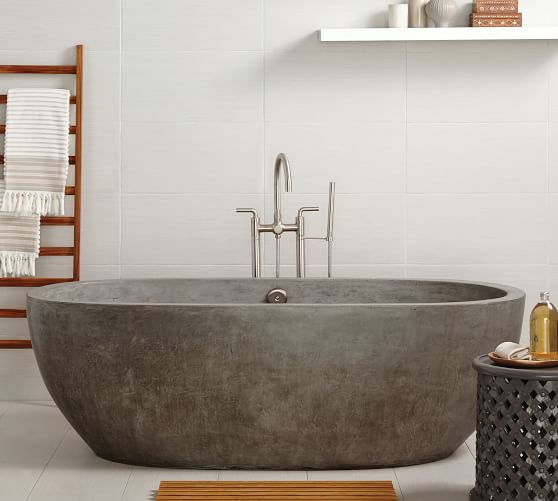bathub: (12, 263, 542, 475)
